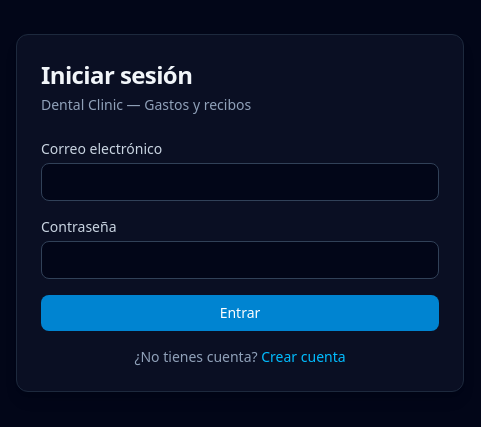
LoginPage › F2: credenciales incorrectas muestran mensaje
Expected: the heading "Iniciar sesión" is shown, 41,58 -> 192,91
Type "a@b.co" into the field labelled "Correo electrónico".
click(240, 182); type("a@b.co")  # box 41,163 -> 439,201
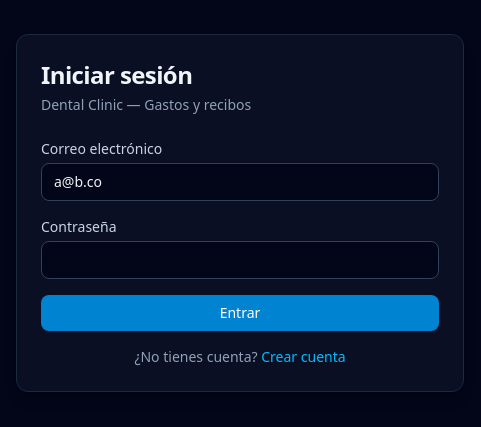
Type "secret" into the password field labelled "Contraseña".
click(240, 260); type("secret")  # box 41,241 -> 439,279
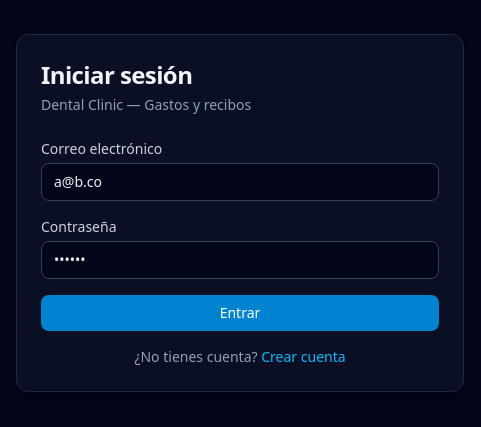
Click the button with test id "login-submit".
click(240, 313)  # box 41,295 -> 439,331
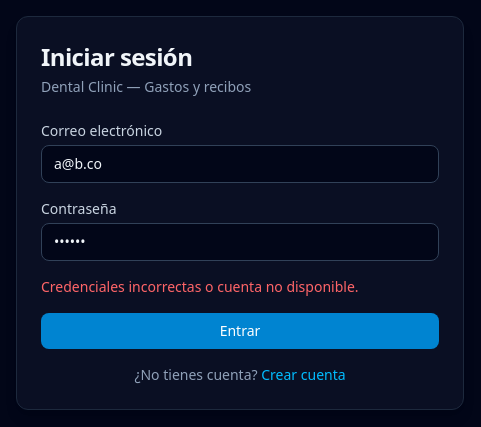
Now the text "Credenciales incorrectas o cuenta no disponible." is shown, box 41,277 -> 358,296
